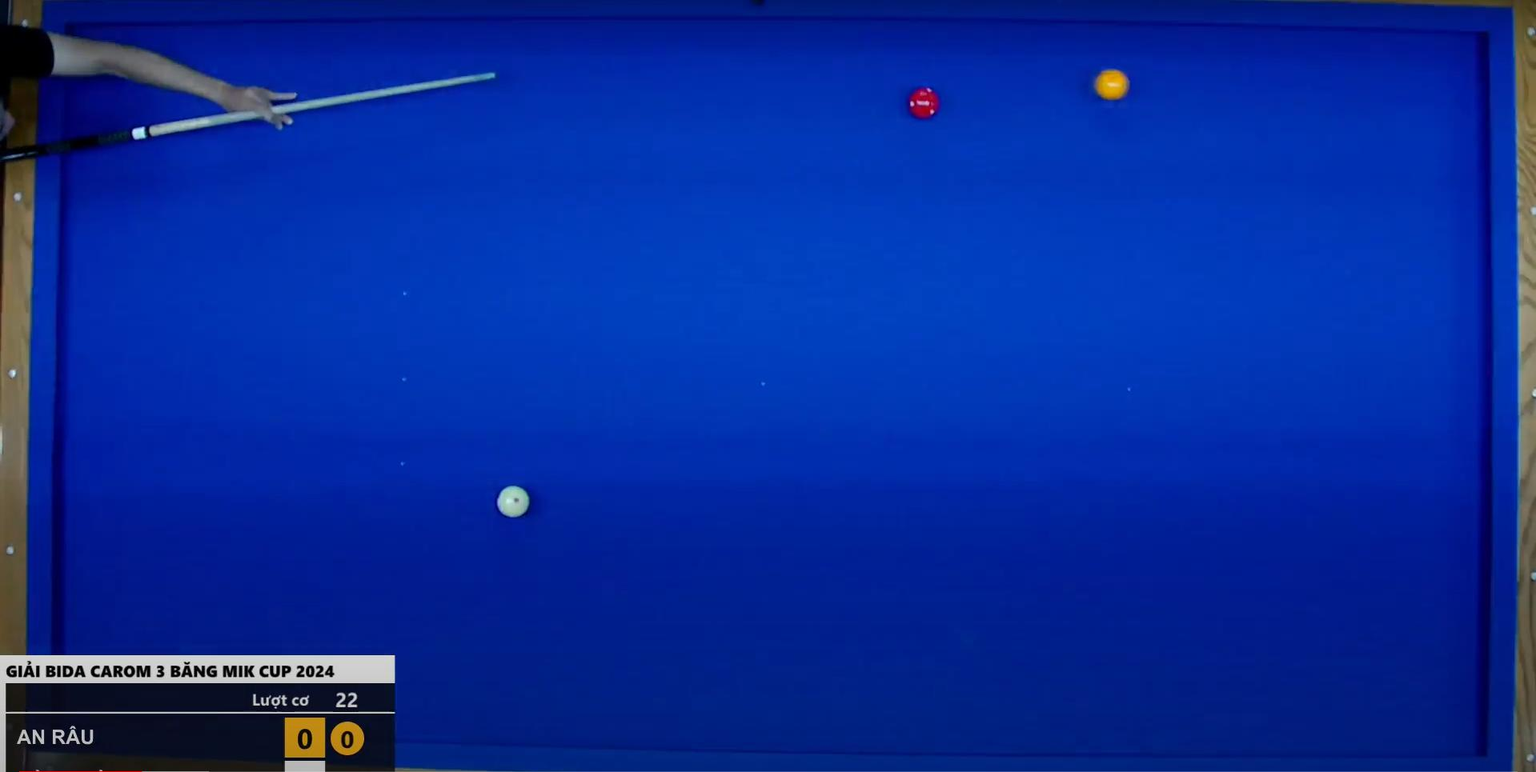red ball: (901, 77, 948, 124)
white ball: (491, 482, 533, 525)
yellow ball: (1089, 64, 1137, 108)
